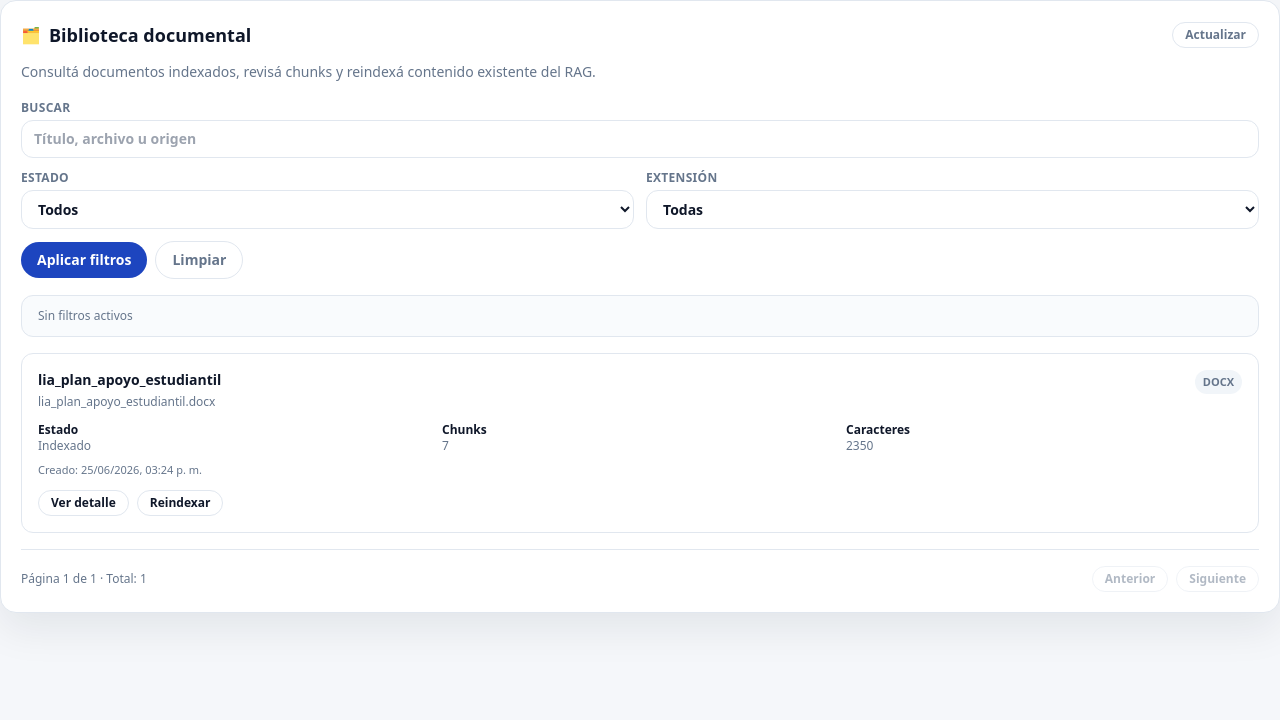
DocumentLibraryPanel › aplica filtros y reindexa
Expected: the heading "lia_plan_apoyo_estudiantil" is shown, [38, 370, 221, 390]
Step 1. Type "apoyo" into the field with placeholder "Título, archivo u origen" → [640, 139], box [21, 120, 1259, 158]
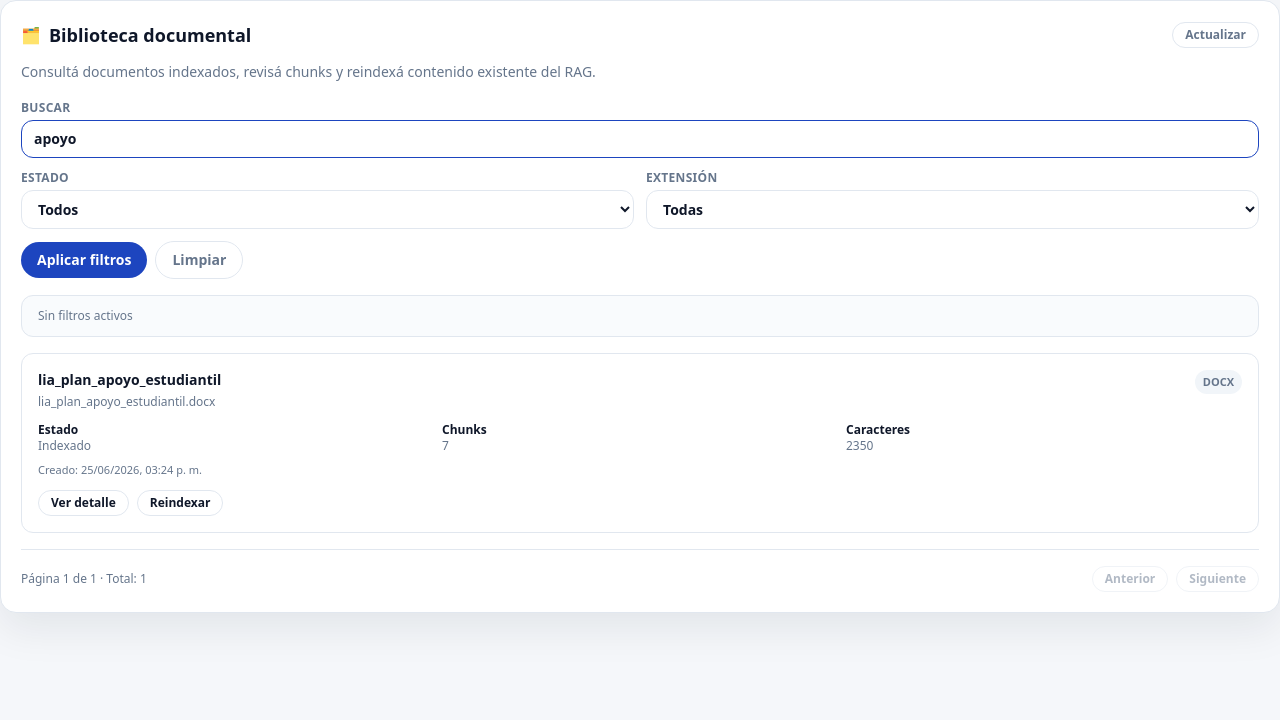
Step 2. Select "DOCX" in the dropdown labelled "Extensión" → [952, 209], box [646, 190, 1259, 229]
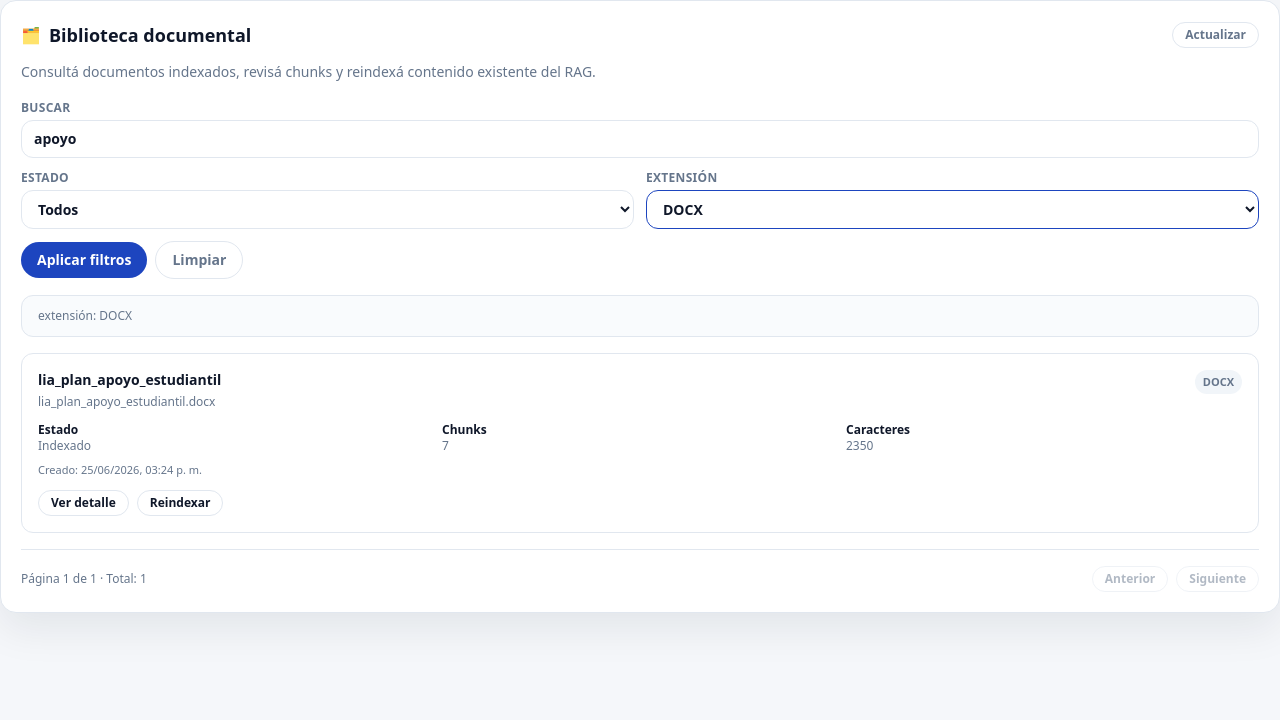
Step 3. Click the button "Aplicar filtros" → [84, 260], box [21, 242, 148, 278]
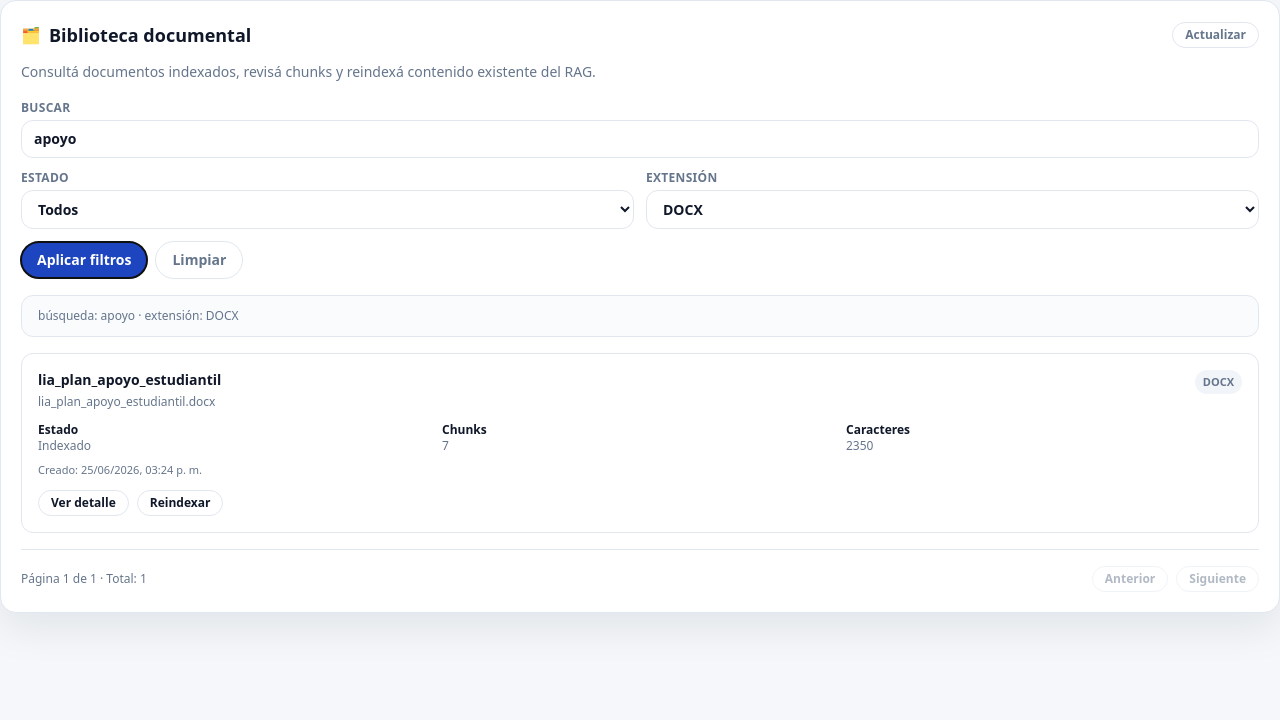
Step 4. Click the button "Reindexar" → [180, 503], box [137, 490, 223, 516]
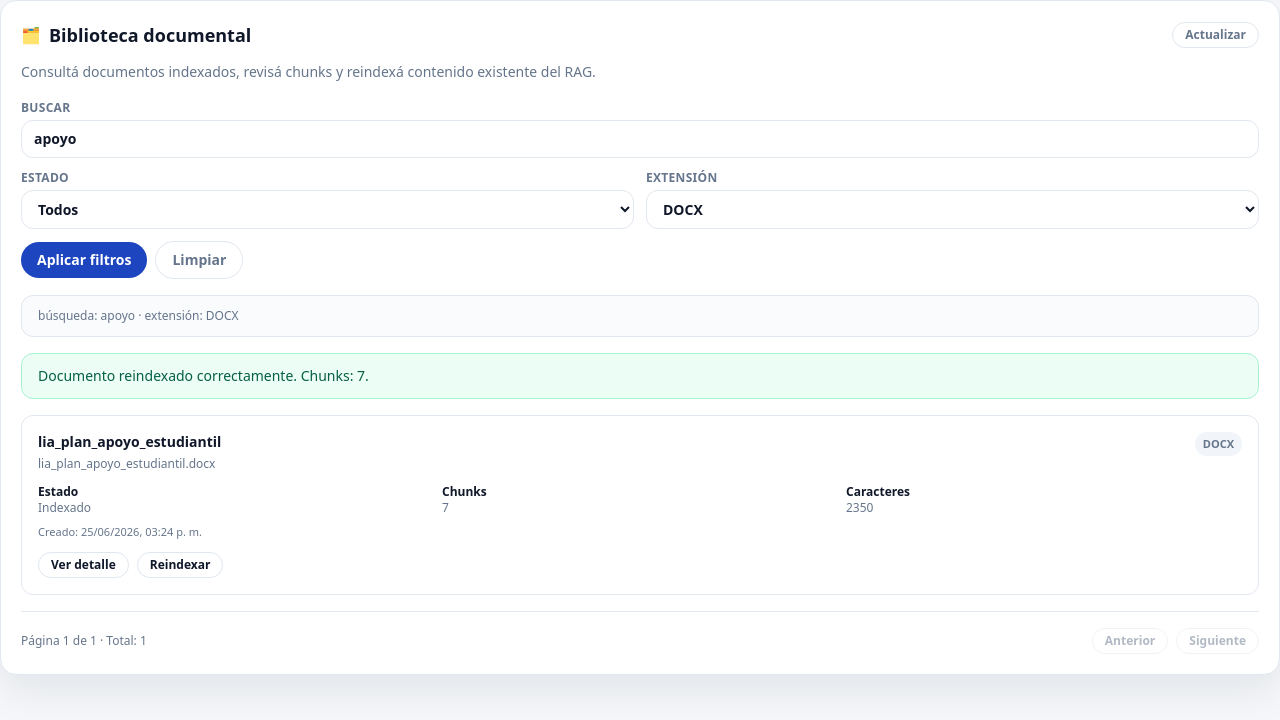
Expected: the text "Documento reindexado correctamente. Chunks: 7." is shown, [21, 353, 1259, 399]
